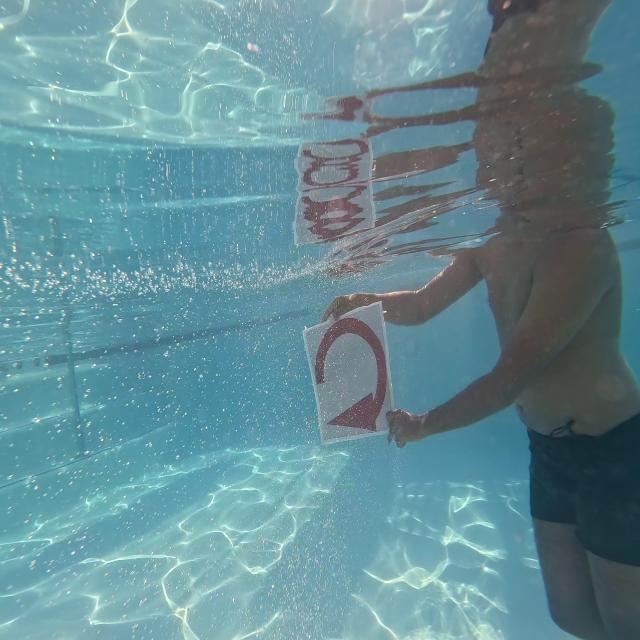red_side: (298, 317, 396, 439)
